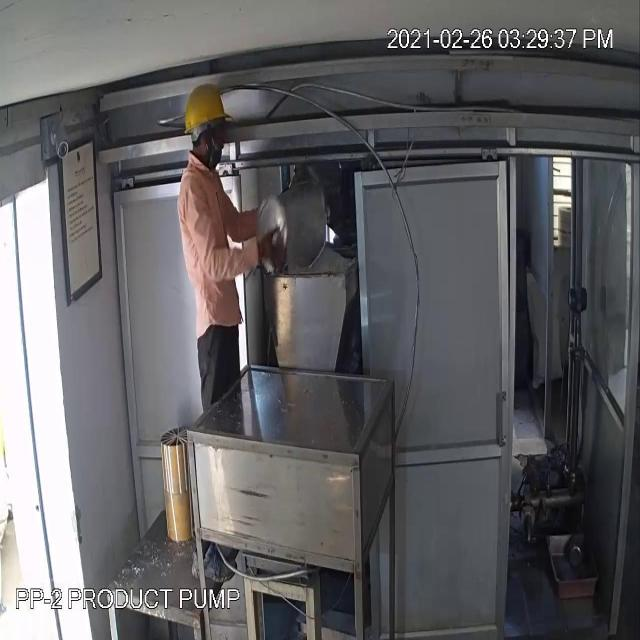helmet: (178, 76, 235, 137)
